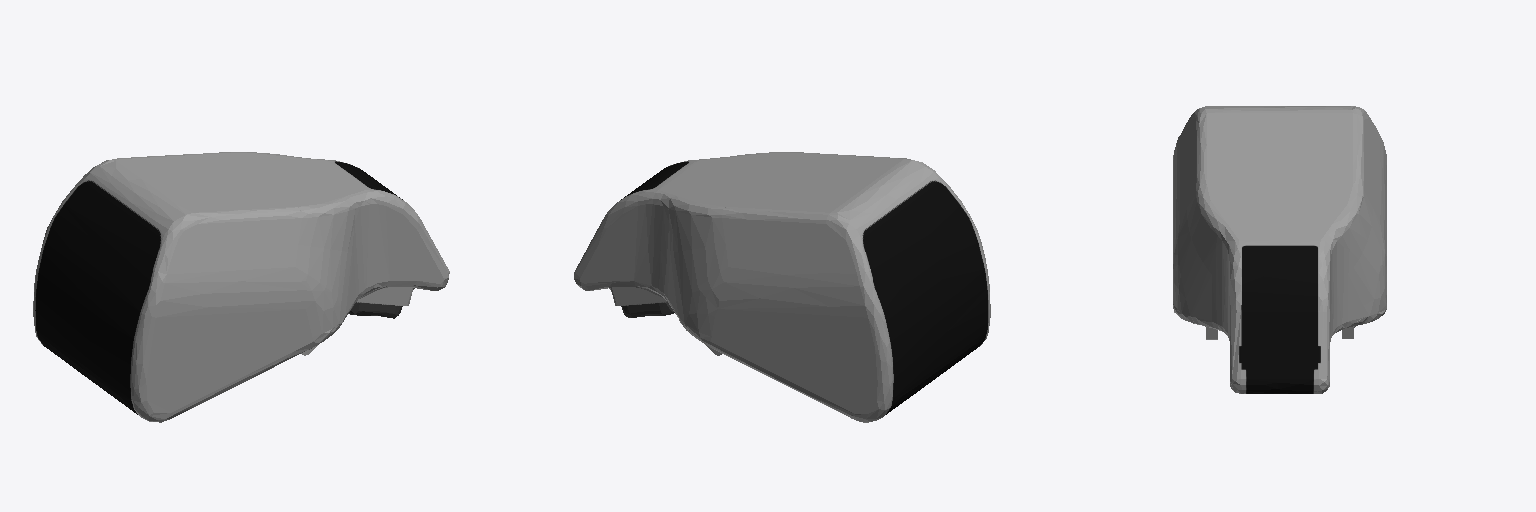
3 views of the same model, side by side, from view 1: azimuth 30°, elevation 25°; view 2: azimuth 150°, elevation 25°; view 3: azimuth 270°, elevation 25° (orthographic).
Parts seen in each view (by area): view 1: SM_finger_M2K_modShape; view 2: SM_finger_M2K_modShape; view 3: SM_finger_M2K_modShape.
Part boxes in pixels (left/top/right/bottom): SM_finger_M2K_modShape: left=33, top=152, right=449, bottom=422; SM_finger_M2K_modShape: left=574, top=152, right=990, bottom=422; SM_finger_M2K_modShape: left=1173, top=106, right=1386, bottom=393.
Bounding box in the file's own units: 0.1046 × 0.0548 × 0.0562.
Materials: 1 (1 with a texture image).